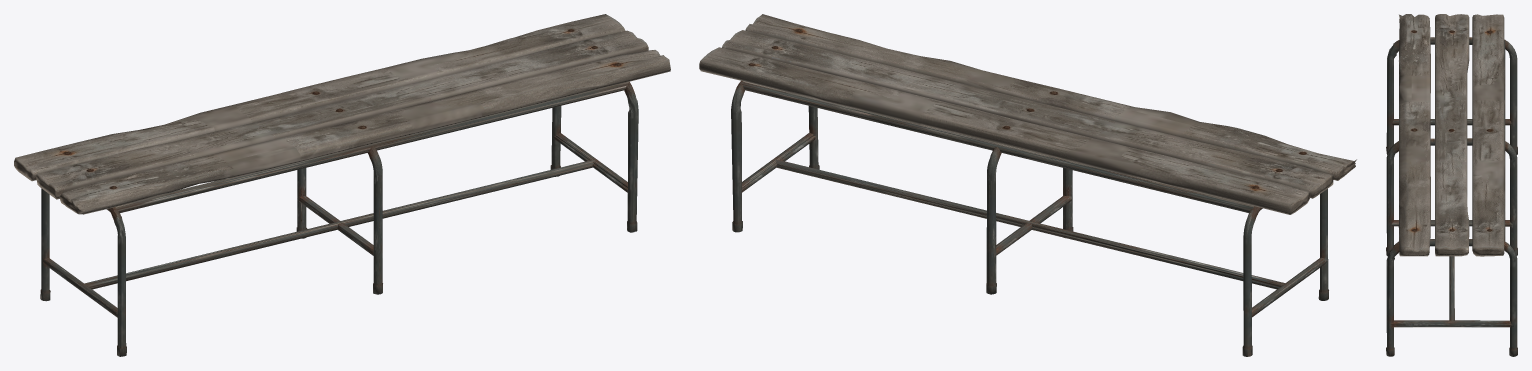
File: silo81_bench.glb
The picture shows the model from 3 angles, left to right: view 1: azimuth 30°, elevation 25°; view 2: azimuth 150°, elevation 25°; view 3: azimuth 270°, elevation 25°; orthographic projection. The views are drawn at different scales.
Size of the model in its own units: 0.9541 by 0.2388 by 0.2271.
Materials: 1 (1 with a texture image).
